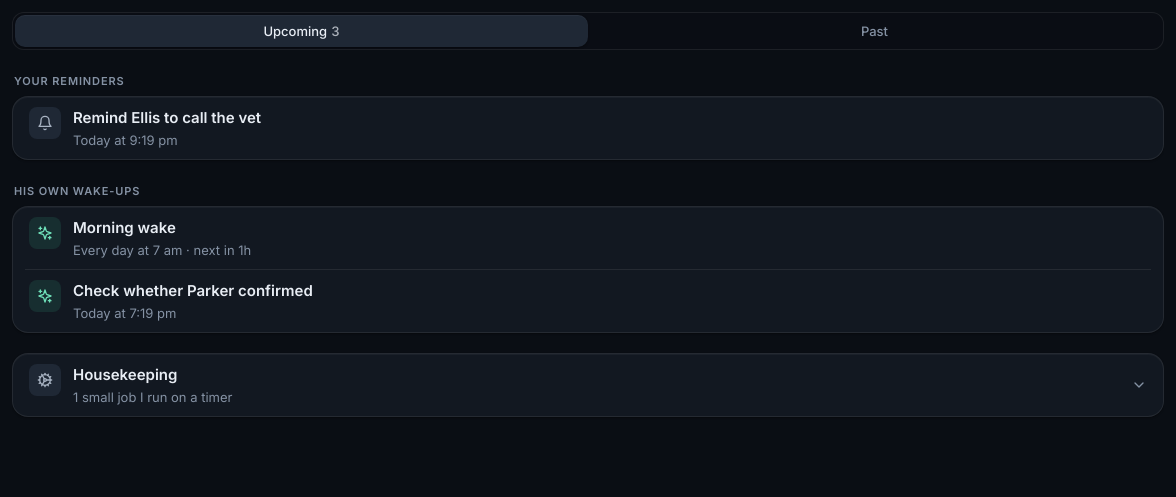
Scenario: EventsBrowser › splits reminders, his wake-ups and folded housekeeping
Expected: the text "Remind Ellis to call the vet" is shown, [73, 108, 261, 127]
Expected: the text "Morning wake" is shown, [73, 218, 176, 237]
Step 1. Click the button "Housekeeping 1 small job I run on a timer" → (45, 380), box [25, 354, 1151, 416]
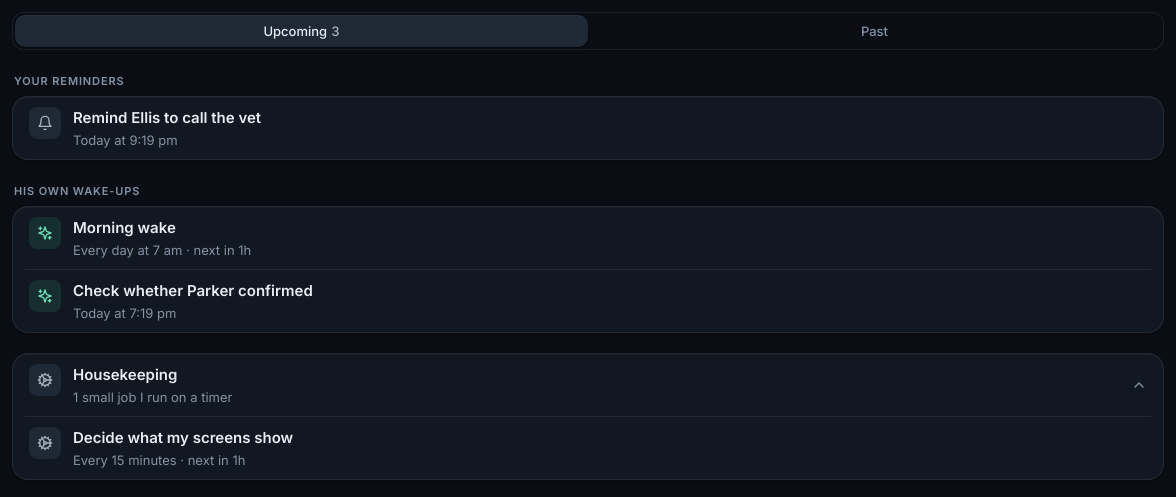
Now the text "Decide what my screens show" is shown, box [73, 428, 293, 447]
